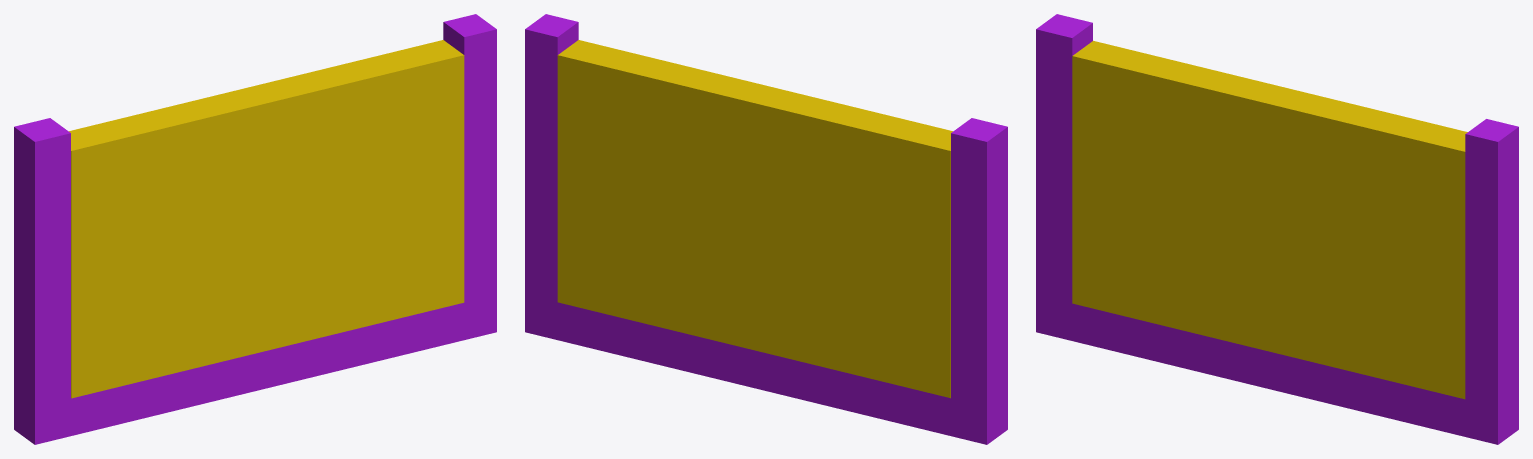
File: maze door.fbx
The picture shows the model from 3 angles, left to right: view 1: azimuth 30°, elevation 25°; view 2: azimuth 150°, elevation 25°; view 3: azimuth 330°, elevation 25°; orthographic projection.
Visible parts, largest first — view 1: Door, Door frame; view 2: Door, Door frame; view 3: Door, Door frame.
Boxes of the visible parts, <box> form: Door: <box>69,40,464,398</box>; Door frame: <box>14,14,496,444</box>; Door: <box>557,40,952,398</box>; Door frame: <box>525,14,1007,444</box>; Door: <box>1072,40,1467,399</box>; Door frame: <box>1036,14,1518,444</box>.
Bounding box in the file's own units: 2554 × 1600 × 200.
